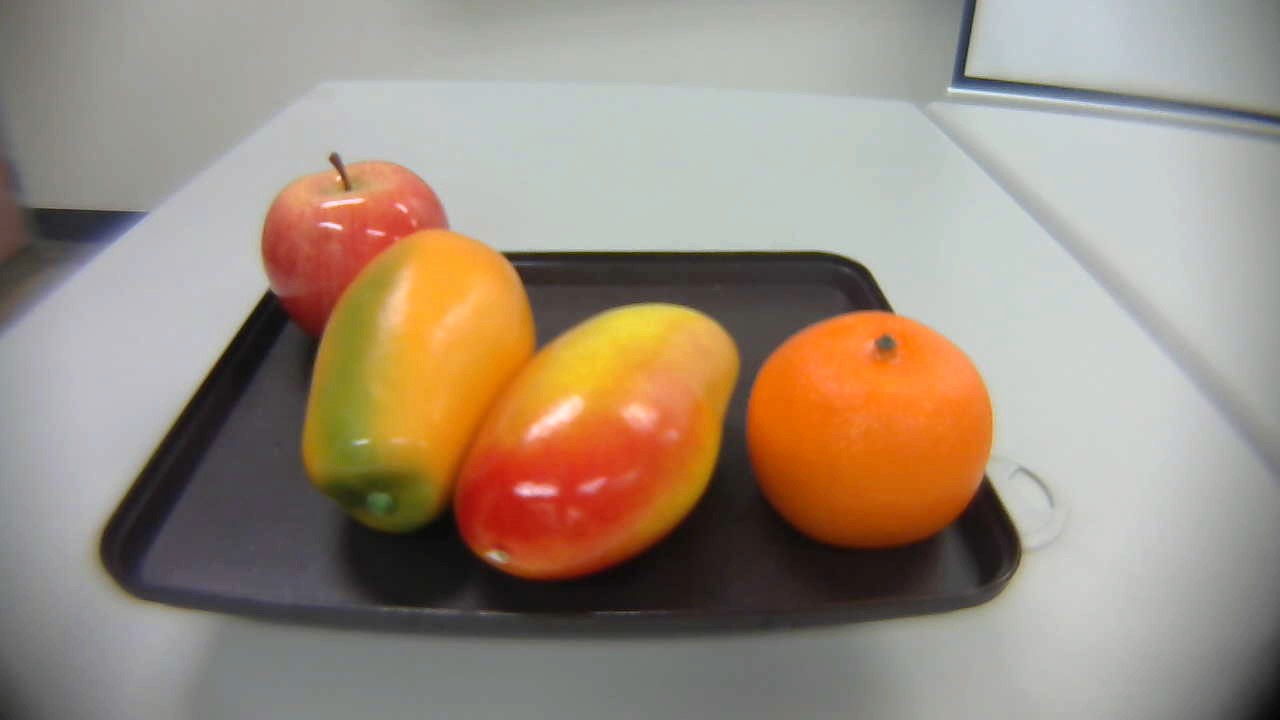orange: (747, 301, 997, 553)
papya: (290, 226, 542, 546)
red apple: (242, 144, 470, 338)
red mango: (448, 303, 745, 594)
